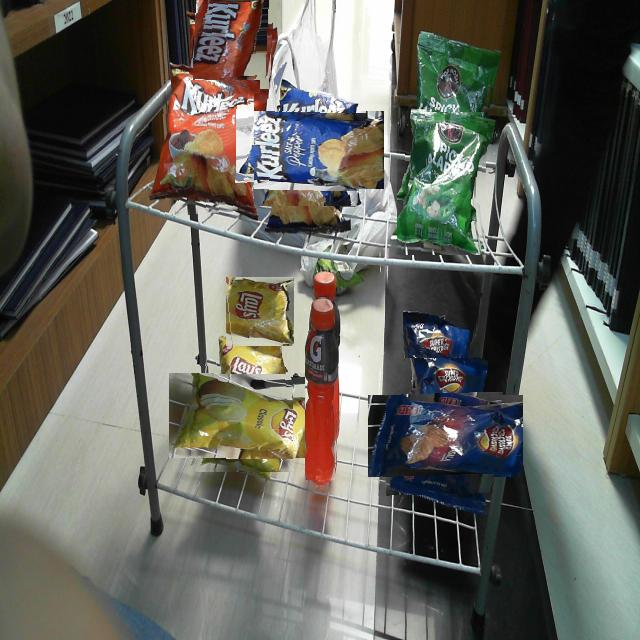Plastic: (386, 376, 505, 496), (160, 80, 260, 217), (254, 93, 367, 206), (397, 116, 488, 255), (182, 360, 293, 472), (190, 2, 274, 84), (417, 28, 497, 112), (305, 297, 338, 480), (225, 278, 294, 346), (403, 304, 478, 358)
